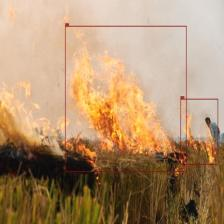fire: (65, 25, 187, 172), (180, 98, 218, 164)
